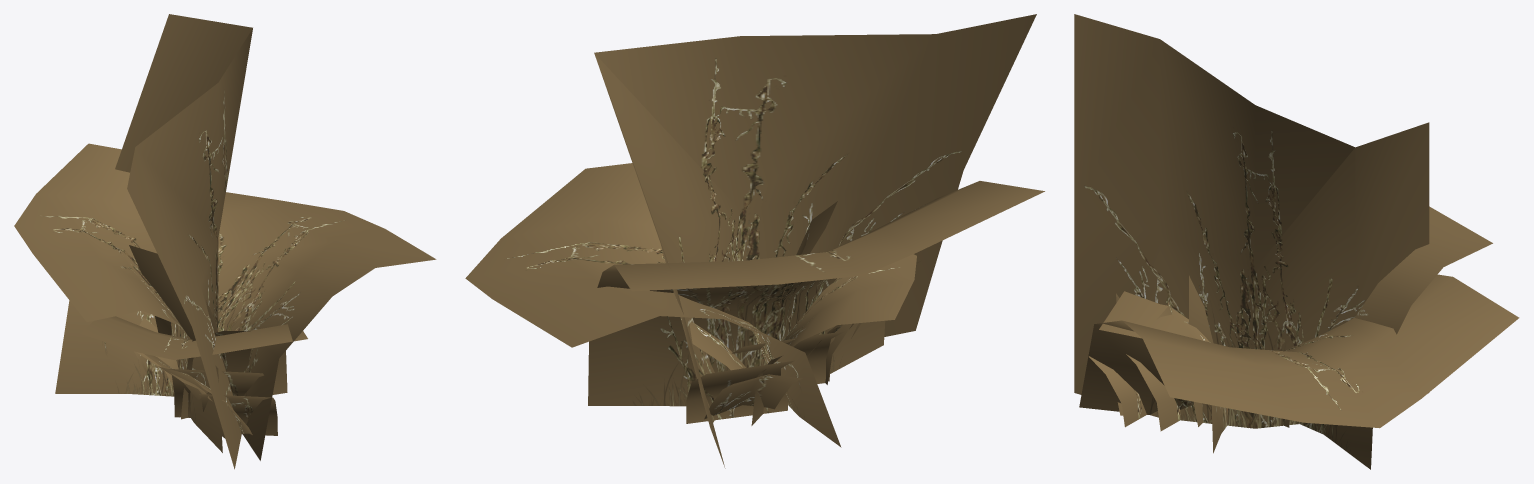
The model's file is Desert_Tree3.FBX.
The picture shows the model from 3 angles, left to right: view 1: azimuth 30°, elevation 25°; view 2: azimuth 150°, elevation 25°; view 3: azimuth 270°, elevation 25°; orthographic projection. The views are drawn at different scales.
Visible parts, largest first — view 1: Mesh Object; view 2: Mesh Object; view 3: Mesh Object.
Part boxes in pixels (<box>): Mesh Object: <box>14,14,436,469</box>; Mesh Object: <box>465,14,1044,468</box>; Mesh Object: <box>1074,14,1519,469</box>.
Bounding box in the file's own units: 6.44 × 4.84 × 6.04.
